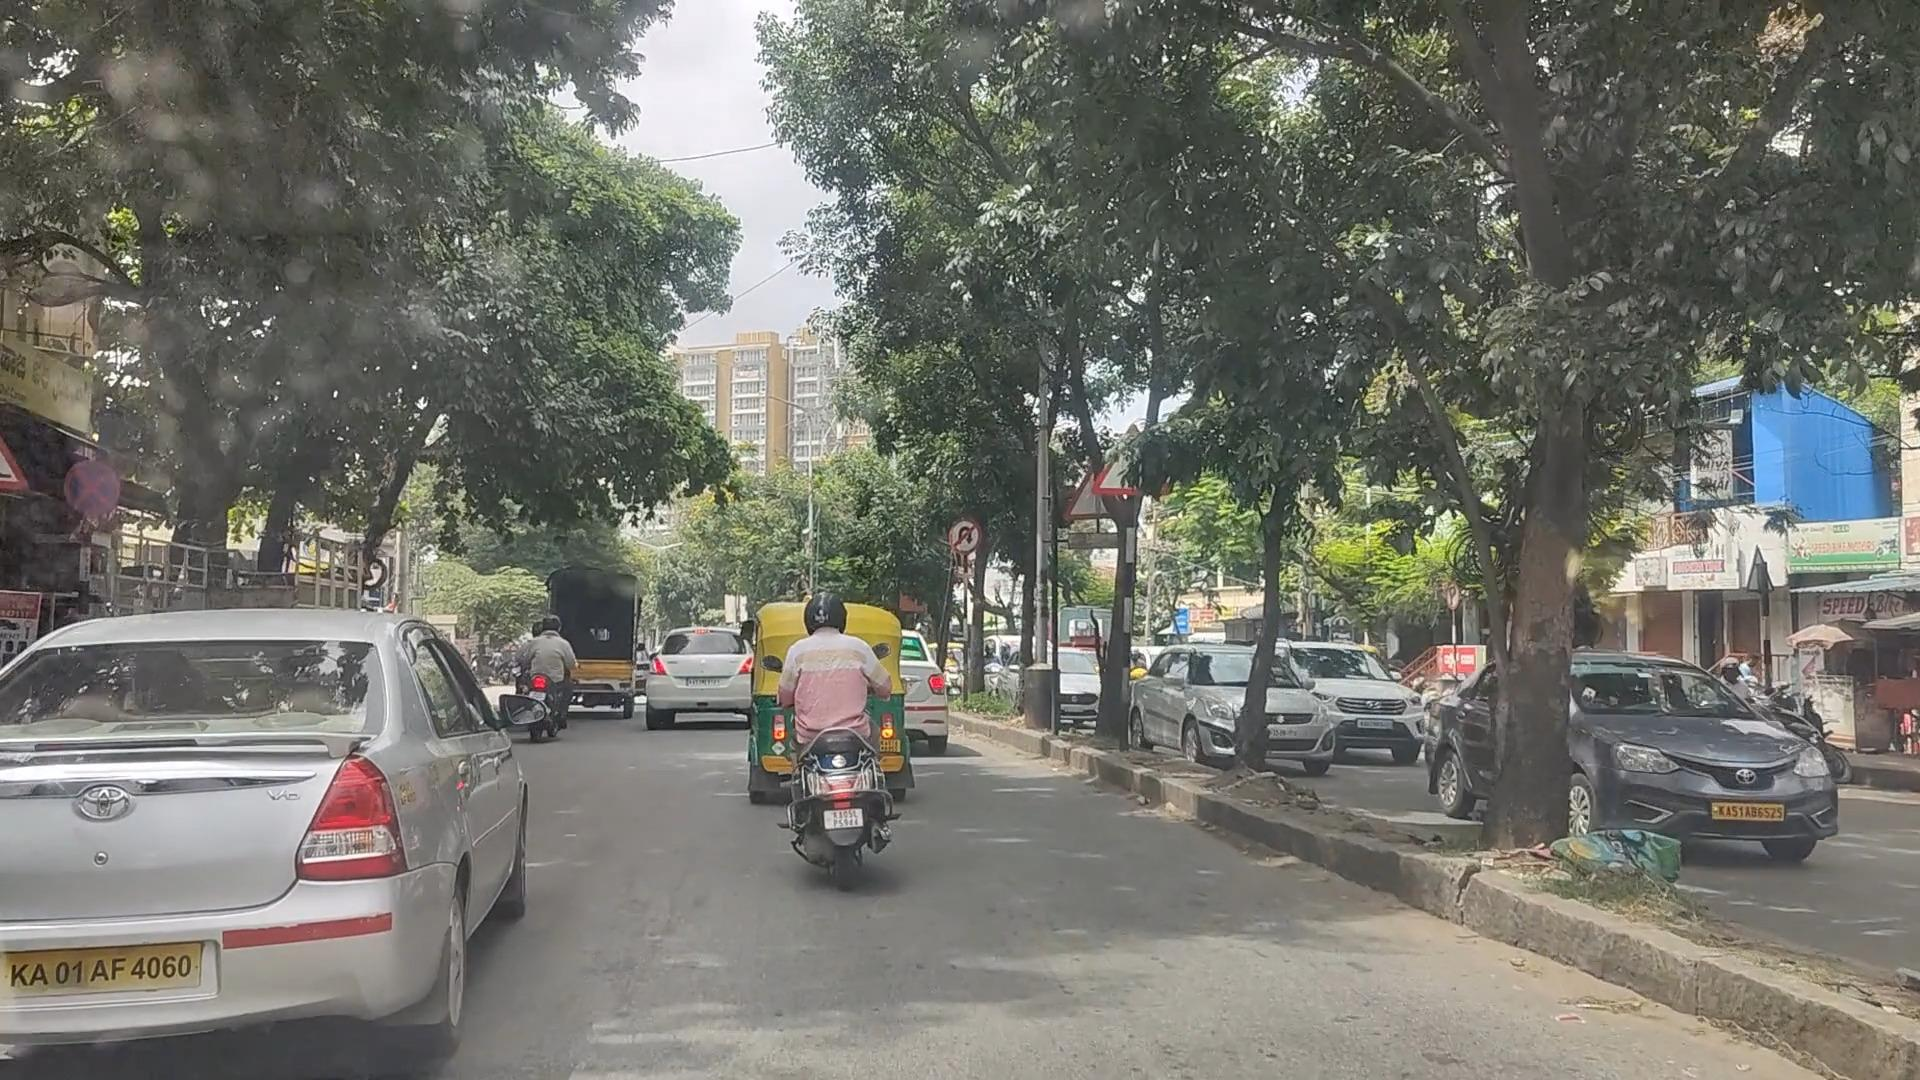LMV: (0, 620, 521, 1077), (761, 620, 898, 856)
